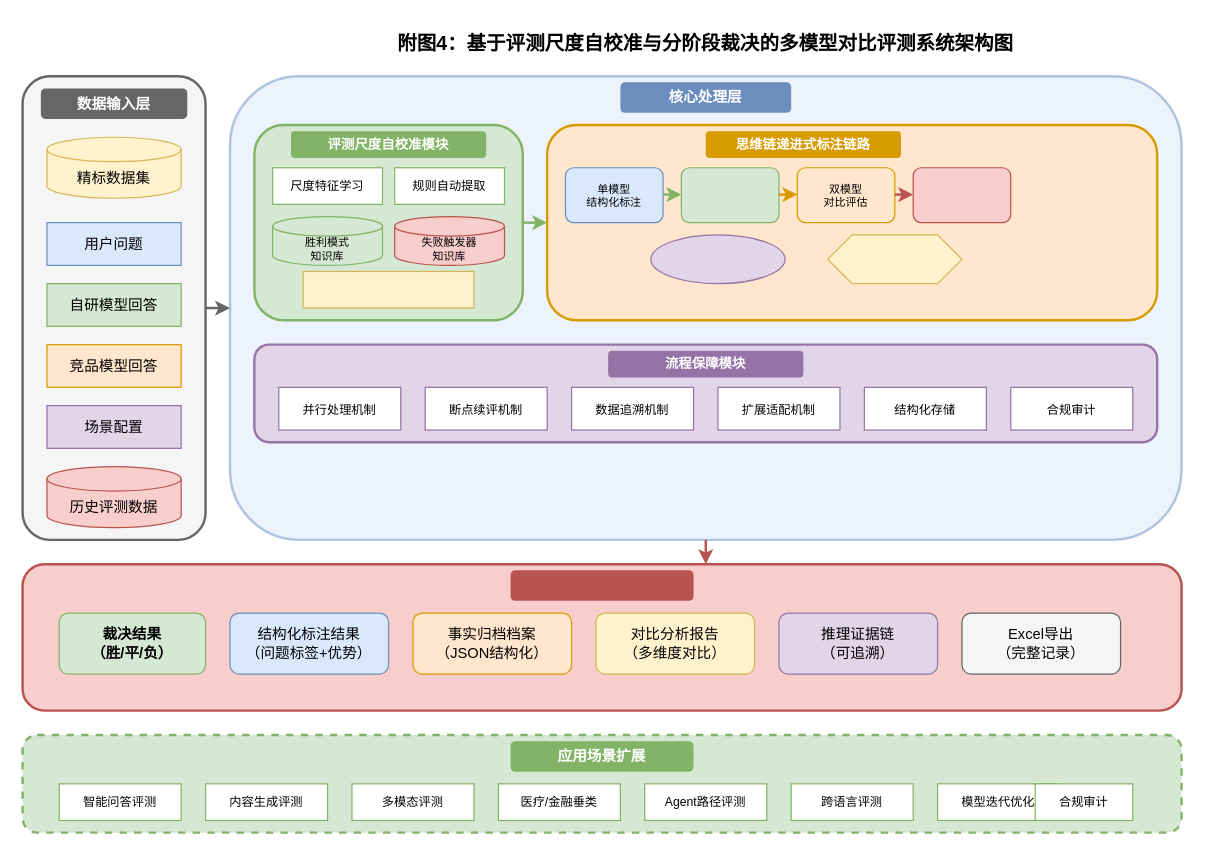
This 1214x854 diagram has some shape labels left out. Each missing label, with the box of its shape:
双模型 事实归档: (680, 167, 779, 223)
多维度 裁决推理: (912, 167, 1011, 223)
大语言模型引擎: (650, 234, 785, 284)
结果输出层: (510, 570, 693, 600)
规则映射引擎: (827, 234, 962, 284)
评测尺度约束信息: (302, 270, 474, 308)
